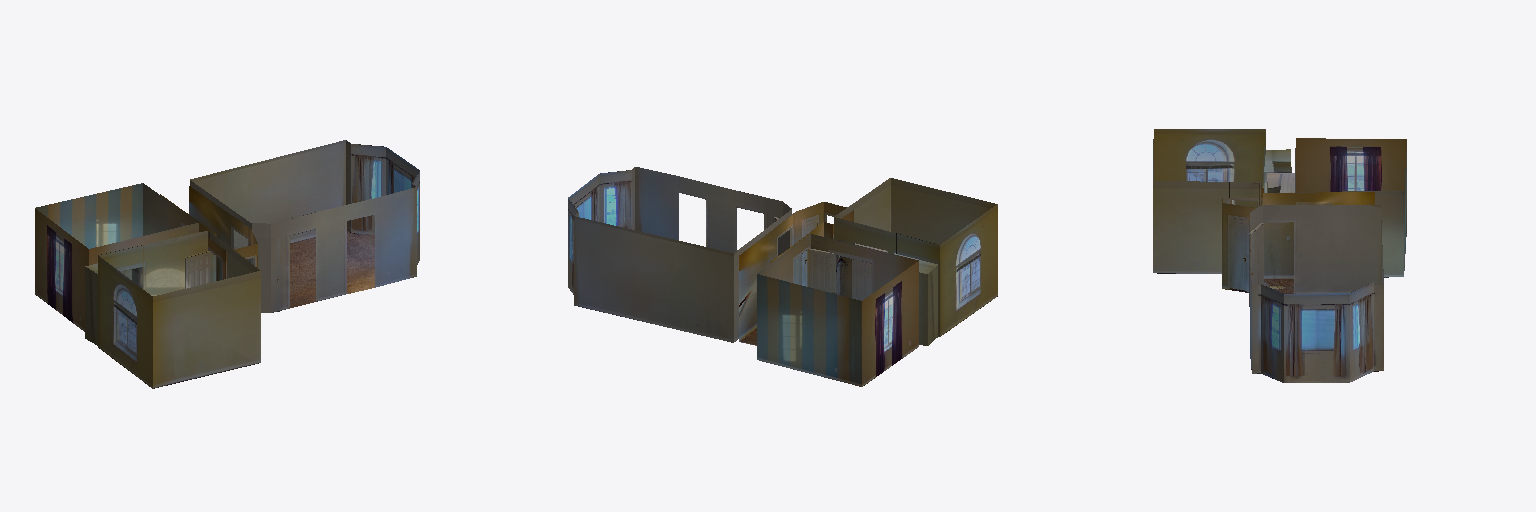
3 views of the same model, side by side, from view 1: azimuth 30°, elevation 25°; view 2: azimuth 150°, elevation 25°; view 3: azimuth 270°, elevation 25° (orthographic).
Parts seen in each view (by area): view 1: combined1; view 2: combined1; view 3: combined1.
Boxes of the visible parts, x1,y1,x2,y2 form: combined1: [35, 140, 419, 388]; combined1: [568, 167, 997, 386]; combined1: [1153, 129, 1406, 382].
Size of the model in its own units: 17.92 by 4.76 by 11.87.
Materials: 5 (5 with a texture image).